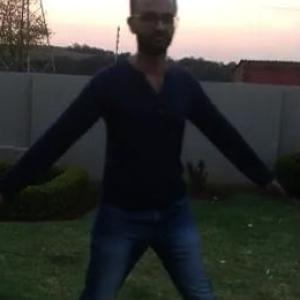land: (8, 0, 262, 299)
